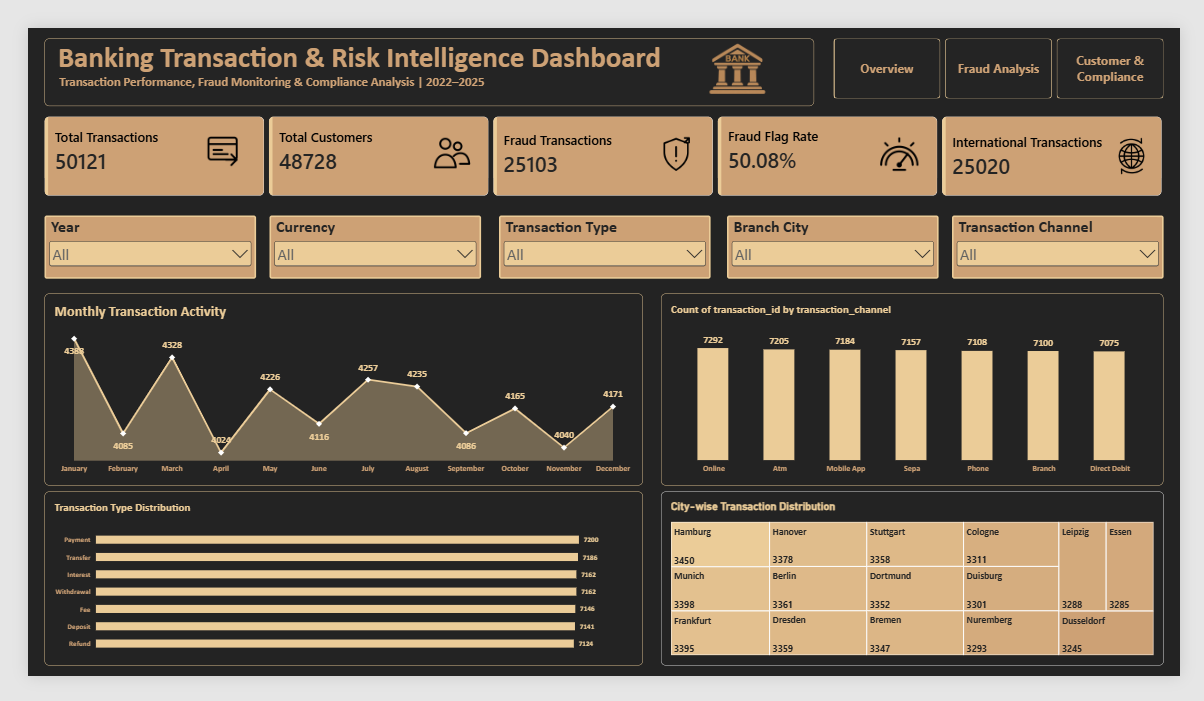

Layout of this report page (visuals, bound fields, positions):
{"tool":"powerbi","page":{"name":"Overview","canvas":[1920,1080],"ordinal":0},"visuals":[{"type":"cardVisual","fields":{"Data":["Banking_Transactions_2022_2025.Total Transactions","Banking_Transactions_2022_2025.Total Customers","Banking_Transactions_2022_2025.Fraud Flagged Transactions","Banking_Transactions_2022_2025.Fraud Flag Rate","Banking_Transactions_2022_2025.International Transactions"]},"box":[27.5,147.5,1865,132.5],"z":0},{"type":"textbox","box":[27.5,17.5,1282.5,112.5],"z":1000},{"type":"image","box":[1055,17.5,255,100],"z":2000},{"type":"slicer","fields":{"Values":["Banking_Transactions_2022_2025.transaction_date.Variation.Date Hierarchy.Year"]},"box":[27.5,312.5,352.5,105],"z":3000},{"type":"slicer","fields":{"Values":["Banking_Transactions_2022_2025.currency"]},"box":[402.5,312.5,352.5,105],"z":4000},{"type":"slicer","fields":{"Values":["Banking_Transactions_2022_2025.transaction_type"]},"box":[785,312.5,352.5,105],"z":5000},{"type":"slicer","fields":{"Values":["Banking_Transactions_2022_2025.branch_city"]},"box":[1165,312.5,352.5,105],"z":6000},{"type":"slicer","fields":{"Values":["Banking_Transactions_2022_2025.transaction_channel"]},"box":[1540,312.5,352.5,105],"z":7000},{"type":"areaChart","title":"Monthly Transaction Activity","fields":{"Category":["Banking_Transactions_2022_2025.transaction_date.Variation.Date Hierarchy.Month"],"Y":["CountNonNull(Banking_Transactions_2022_2025.transaction_id)"]},"box":[27.5,442.5,997.5,320],"z":8000},{"type":"barChart","title":"Transaction Type Distribution","fields":{"Category":["Banking_Transactions_2022_2025.transaction_type"],"Y":["CountNonNull(Banking_Transactions_2022_2025.transaction_id)"]},"box":[27.5,772.5,997.5,290],"z":9000},{"type":"columnChart","fields":{"Category":["Banking_Transactions_2022_2025.transaction_channel"],"Y":["CountNonNull(Banking_Transactions_2022_2025.transaction_id)"]},"box":[1055,442.5,837.5,320],"z":10000},{"type":"treemap","title":"City-wise Transaction Distribution","fields":{"Group":["Banking_Transactions_2022_2025.branch_city"],"Values":["CountNonNull(Banking_Transactions_2022_2025.customer_id)"]},"box":[1055,773,838,290],"z":11000},{"type":"pageNavigator","box":[1342.5,17.5,550,100],"z":11001}]}

Visuals, with their boxes on the page's 1920x1080 design canvas (x1, y1, x2, y2). These are canvas units, not pixel positions in the 1204x701 screenshot, which may show the page scaled, cropped or inside an application window:
cardVisual - Banking_Transactions_2022_2025.Total Transactions x Banking_Transactions_2022_2025.Total Customers: <bbox>28, 148, 1892, 280</bbox>
textbox: <bbox>28, 18, 1310, 130</bbox>
image: <bbox>1055, 18, 1310, 118</bbox>
slicer - Banking_Transactions_2022_2025.transaction_date.Variation.Date Hierarchy.Year: <bbox>28, 312, 380, 418</bbox>
slicer - Banking_Transactions_2022_2025.currency: <bbox>402, 312, 755, 418</bbox>
slicer - Banking_Transactions_2022_2025.transaction_type: <bbox>785, 312, 1138, 418</bbox>
slicer - Banking_Transactions_2022_2025.branch_city: <bbox>1165, 312, 1518, 418</bbox>
slicer - Banking_Transactions_2022_2025.transaction_channel: <bbox>1540, 312, 1892, 418</bbox>
"Monthly Transaction Activity" areaChart: <bbox>28, 442, 1025, 762</bbox>
"Transaction Type Distribution" barChart: <bbox>28, 772, 1025, 1062</bbox>
columnChart - Banking_Transactions_2022_2025.transaction_channel x CountNonNull(Banking_Transactions_2022_2025.transaction_id): <bbox>1055, 442, 1892, 762</bbox>
"City-wise Transaction Distribution" treemap: <bbox>1055, 773, 1893, 1063</bbox>
pageNavigator: <bbox>1342, 18, 1892, 118</bbox>
